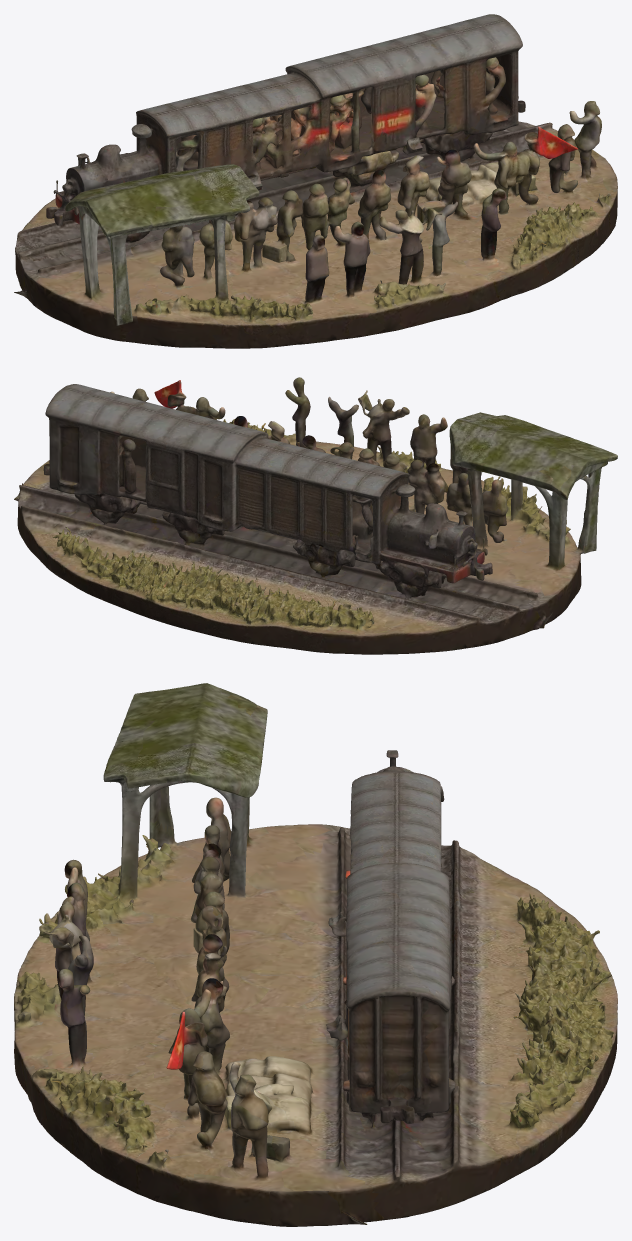
File: chi_vien_cho_mien_nam.glb
3 views of the same model, one above another, from view 1: azimuth 30°, elevation 25°; view 2: azimuth 150°, elevation 25°; view 3: azimuth 270°, elevation 25° (orthographic). The views are drawn at different scales.
Bounding box in the file's own units: 1.9 × 0.472 × 1.3.
Materials: 1 (1 with a texture image).
